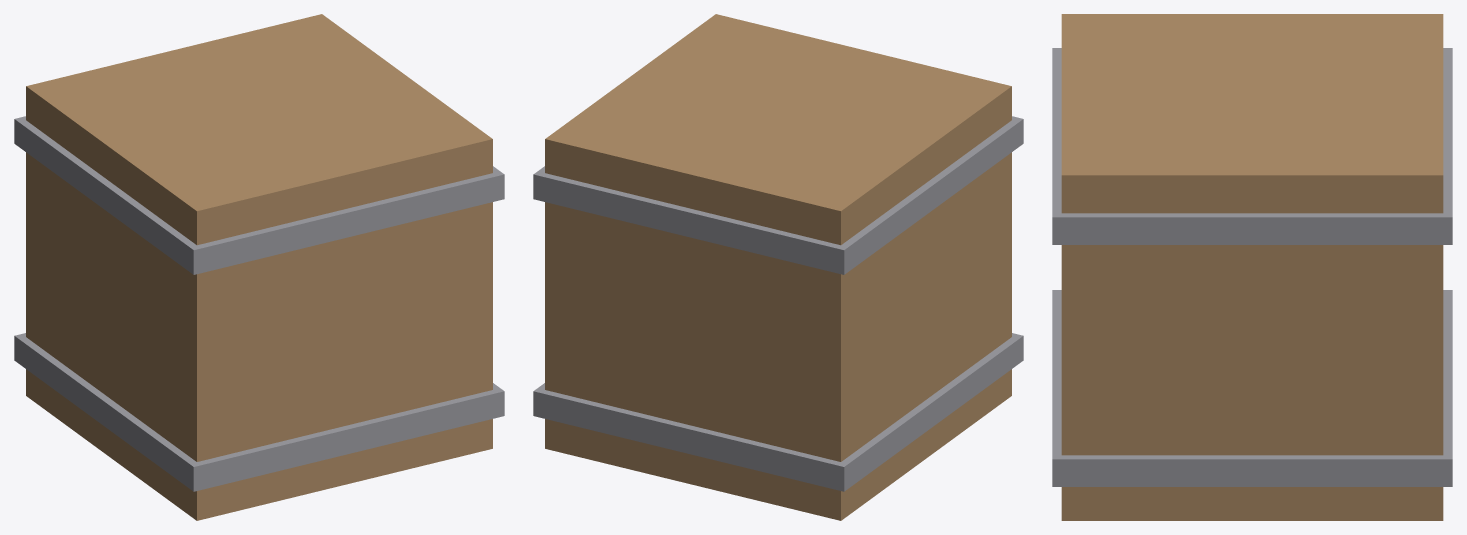
The model's file is crate.glb.
The picture shows the model from 3 angles, left to right: view 1: azimuth 30°, elevation 25°; view 2: azimuth 150°, elevation 25°; view 3: azimuth 270°, elevation 25°; orthographic projection. The views are drawn at different scales.
Visible parts, largest first — view 1: crate; view 2: crate; view 3: crate.
Part boxes in pixels (<box>): crate: <box>14,14,504,520</box>; crate: <box>533,14,1023,520</box>; crate: <box>1052,14,1452,520</box>.
Bounding box in the file's own units: 1.05 × 1 × 1.05.
